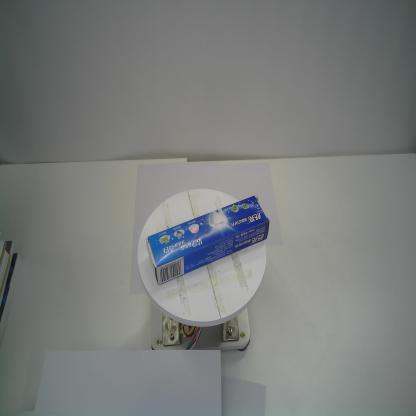Personal Hygiene: (146, 195, 270, 285)
